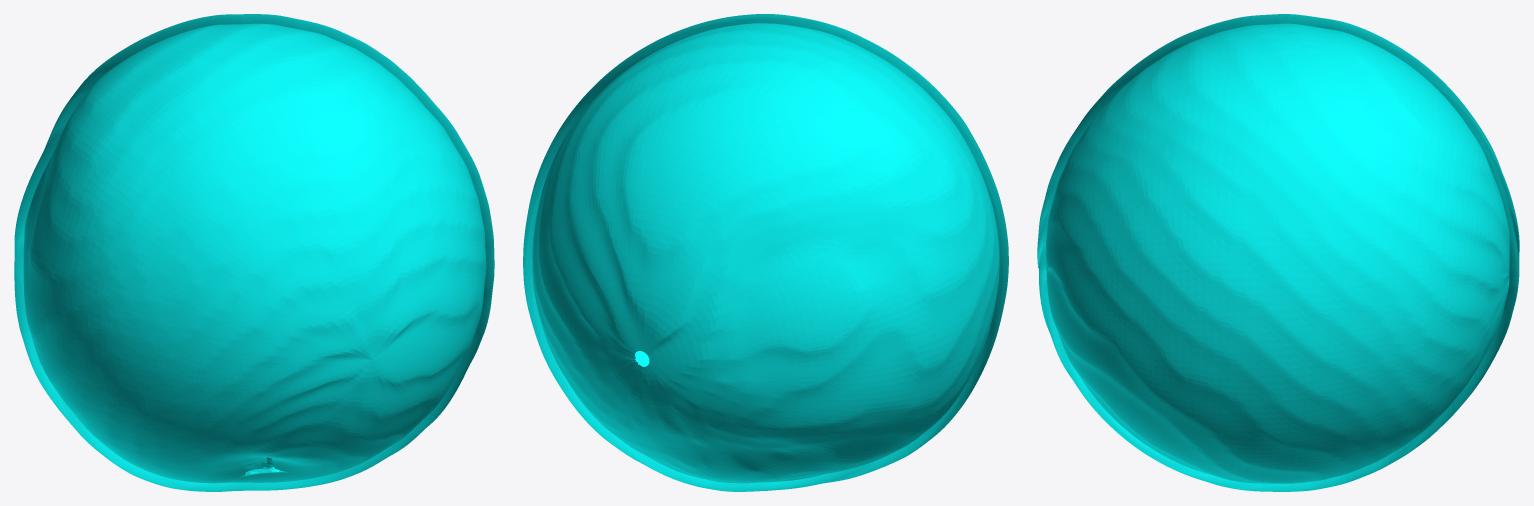
The picture shows the model from 3 angles, left to right: view 1: azimuth 30°, elevation 25°; view 2: azimuth 150°, elevation 25°; view 3: azimuth 270°, elevation 25°; orthographic projection.
Parts seen in each view (by area): view 1: Renderer Node; view 2: Renderer Node; view 3: Renderer Node.
Part boxes in pixels (box(x1,y1,x2,y2)): Renderer Node: box(14, 14, 494, 491); Renderer Node: box(523, 14, 1008, 491); Renderer Node: box(1037, 14, 1519, 491).
Size of the model in its own units: 1.66e+15 by 1.64e+15 by 1.67e+15.
